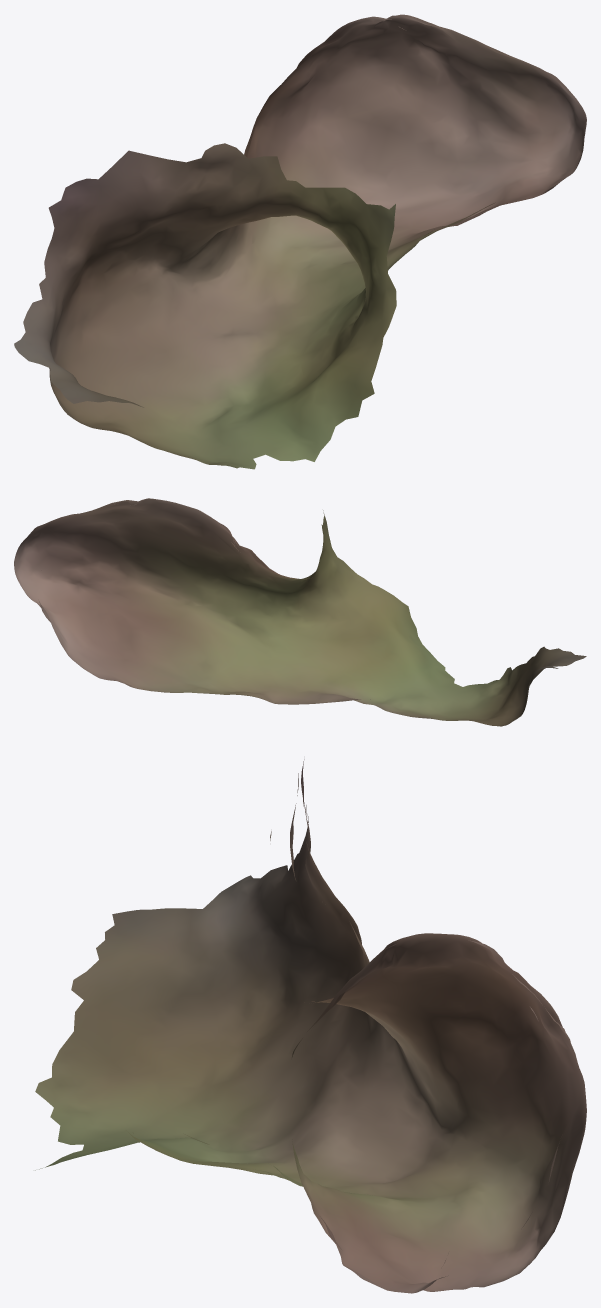
Rendered from LODS_Cloud_global_6.glb.
3 renders of one model, top to bottom at view 1: azimuth 30°, elevation 25°; view 2: azimuth 150°, elevation 25°; view 3: azimuth 270°, elevation 25°, orthographic. The views are drawn at different scales.
Parts seen in each view (by area): view 1: LOD0; view 2: LOD0; view 3: LOD0.
Boxes of the visible parts, x1=… form: LOD0: x1=14, y1=14, x2=586, y2=469; LOD0: x1=14, y1=498, x2=586, y2=726; LOD0: x1=35, y1=759, x2=586, y2=1293.
Size of what is drawn, in the model's own units: 0.3689 by 0.1555 by 0.2168.
